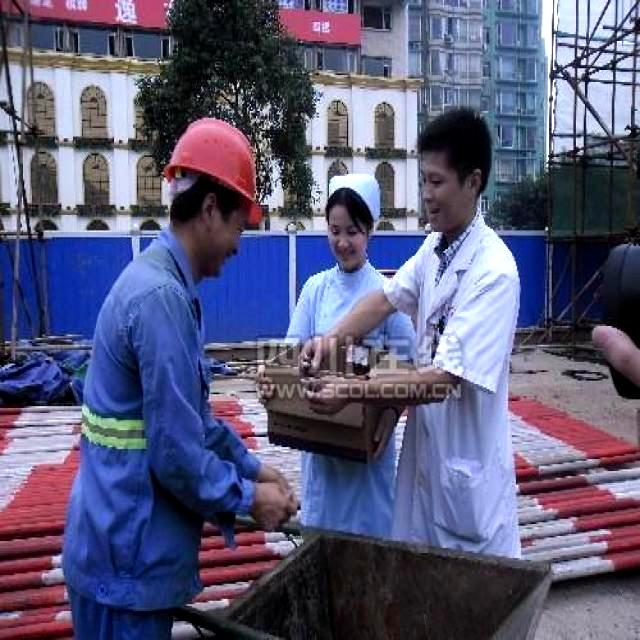hard_hat: (165, 118, 260, 220)
no_hard_hat: (325, 174, 379, 218)
no_head_wear: (419, 108, 492, 198)
person: (61, 118, 303, 638), (299, 110, 519, 559), (256, 174, 417, 543)
